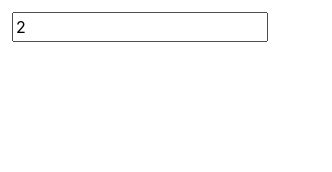
Scenario: 빈 칸으로 두면 원래 수량으로 되돌리고 확정하지 않는다
The width and height of the screenshot is (332, 172).
Clear the field named "카멜피아 수량" at x=140, y=27, box [12,12,268,42]
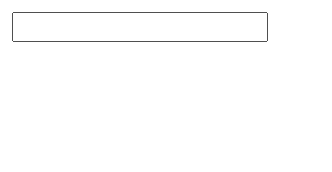
Leave the field named "카멜피아 수량", box [12,12,268,42]
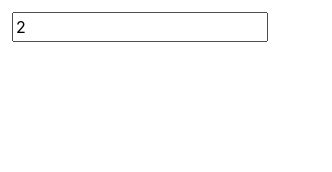
Expected: the field named "카멜피아 수량" holds "2", [12,12,268,42]
